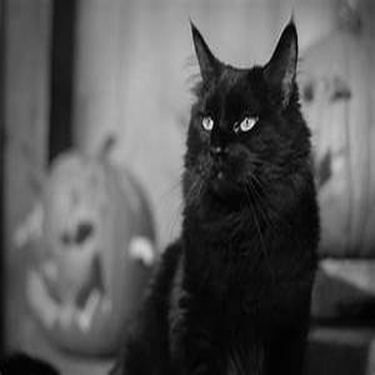cat: (106, 14, 322, 368)
